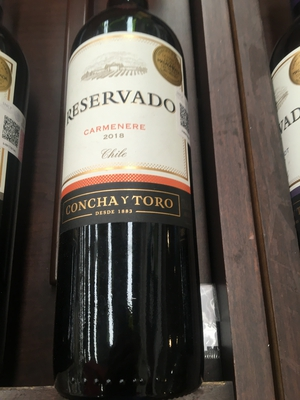reservado carmenere: (53, 11, 204, 383)
